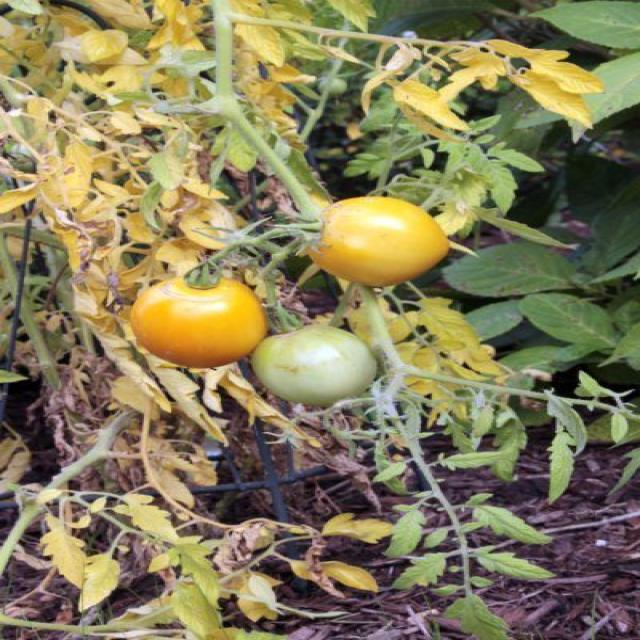level 2: (256, 328, 376, 406)
level 4: (314, 196, 452, 283), (132, 276, 265, 365)
